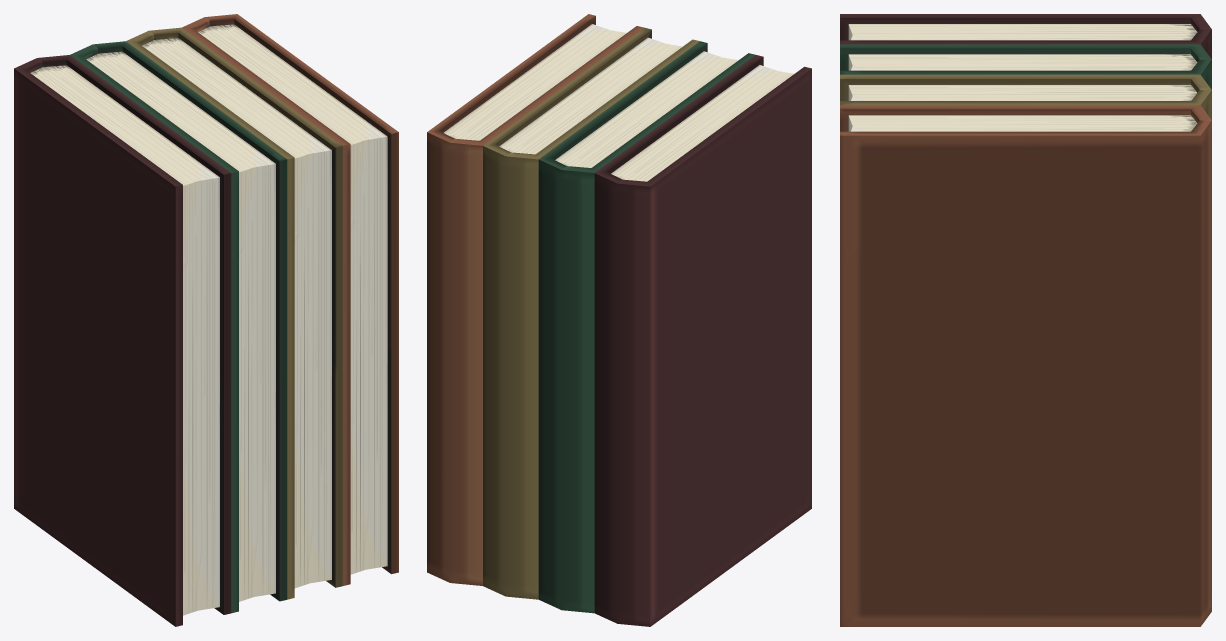
Rendered from books_common.fbx.
3 renders of one model, left to right at view 1: azimuth 30°, elevation 25°; view 2: azimuth 150°, elevation 25°; view 3: azimuth 270°, elevation 25°, orthographic. The views are drawn at different scales.
Parts seen in each view (by area): view 1: Box014, Box013, Box011, Box012; view 2: Box014, Box013, Box011, Box012; view 3: Box012, Box011, Box014, Box013.
Part boxes in pixels (x1,y1,x2,y2): Box014: (14,55,231,626); Box013: (70,41,287,613); Box011: (126,27,342,599); Box012: (182,14,398,585); Box014: (594,55,811,626); Box013: (538,41,755,613); Box011: (483,27,699,599); Box012: (427,14,643,585); Box012: (840,105,1211,626); Box011: (840,74,1211,119); Box014: (840,14,1211,59); Box013: (840,44,1211,89).
Bounding box in the file's own units: 16 × 30.14 × 20.66.
1 material, 1 textured.
